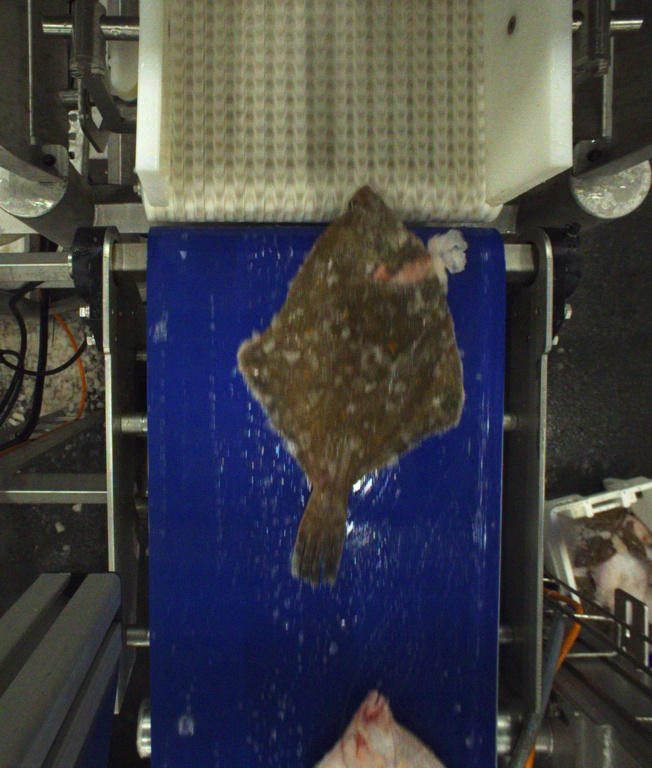PLE: (234, 183, 466, 584)
